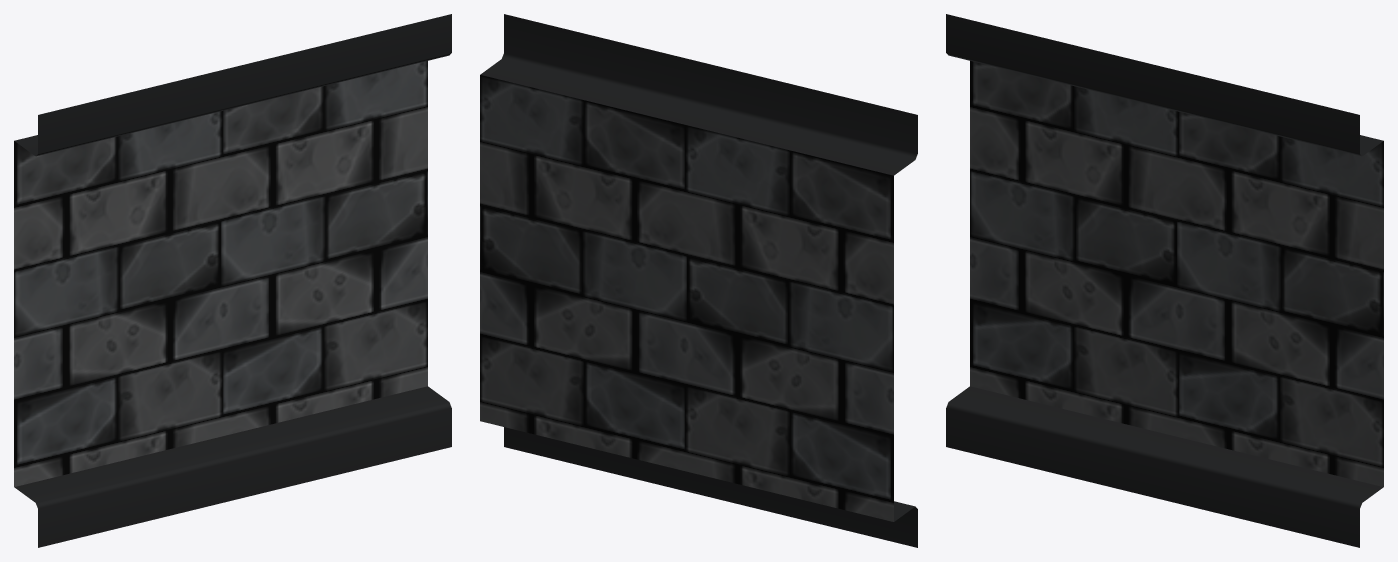
Rendered from M_Wall_Big_Half_Up.fbx.
3 views of the same model, side by side, from view 1: azimuth 30°, elevation 25°; view 2: azimuth 150°, elevation 25°; view 3: azimuth 330°, elevation 25° (orthographic).
Parts seen in each view (by area): view 1: Wall_Big_Half_Up; view 2: Wall_Big_Half_Up; view 3: Wall_Big_Half_Up.
Part boxes in pixels (x1,y1,x2,y2): Wall_Big_Half_Up: [14, 14, 451, 547]; Wall_Big_Half_Up: [480, 14, 917, 547]; Wall_Big_Half_Up: [946, 14, 1383, 547].
Bounding box in the file's own units: 200 × 200 × 20.
